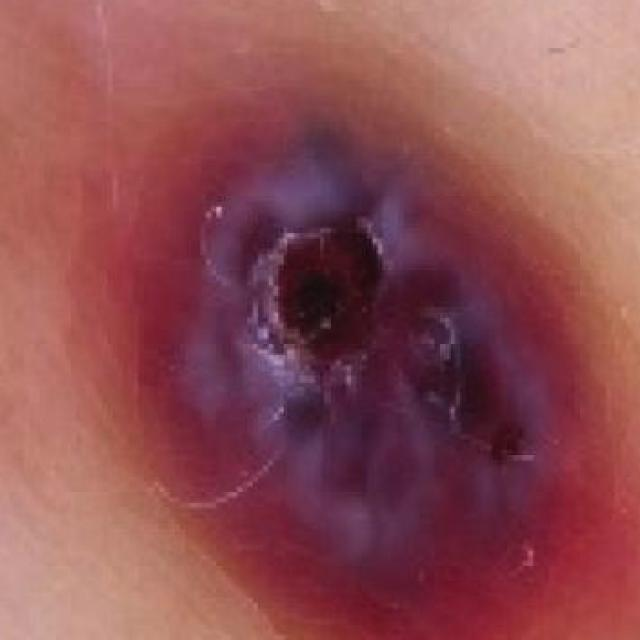VASC: (40, 77, 640, 640)
